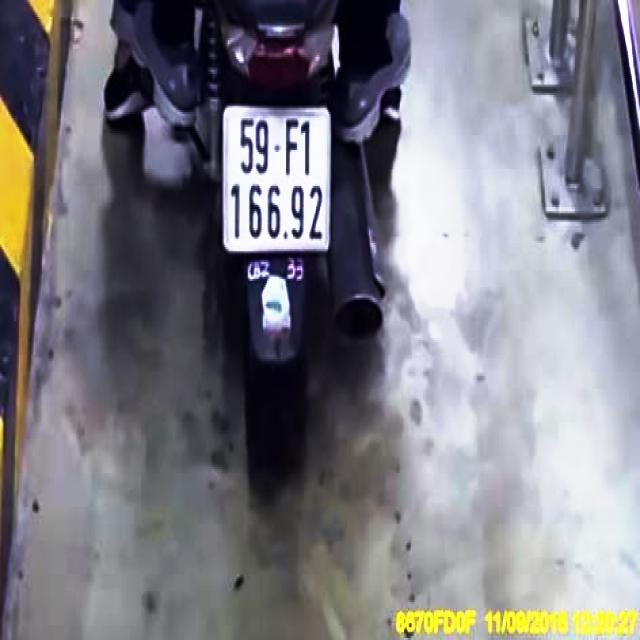license_plate: (226, 109, 335, 249)
